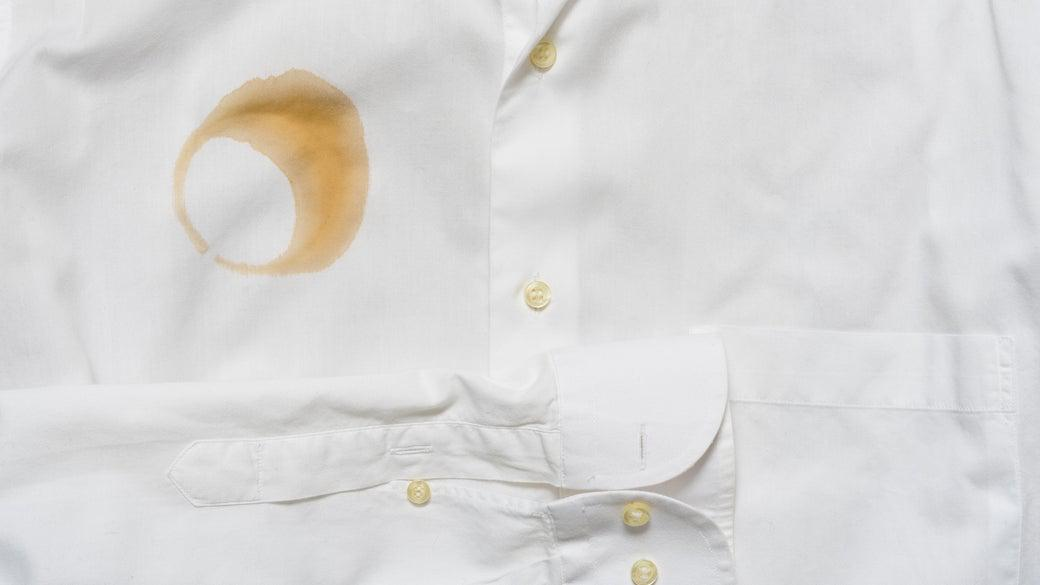gun: (167, 80, 373, 291)
